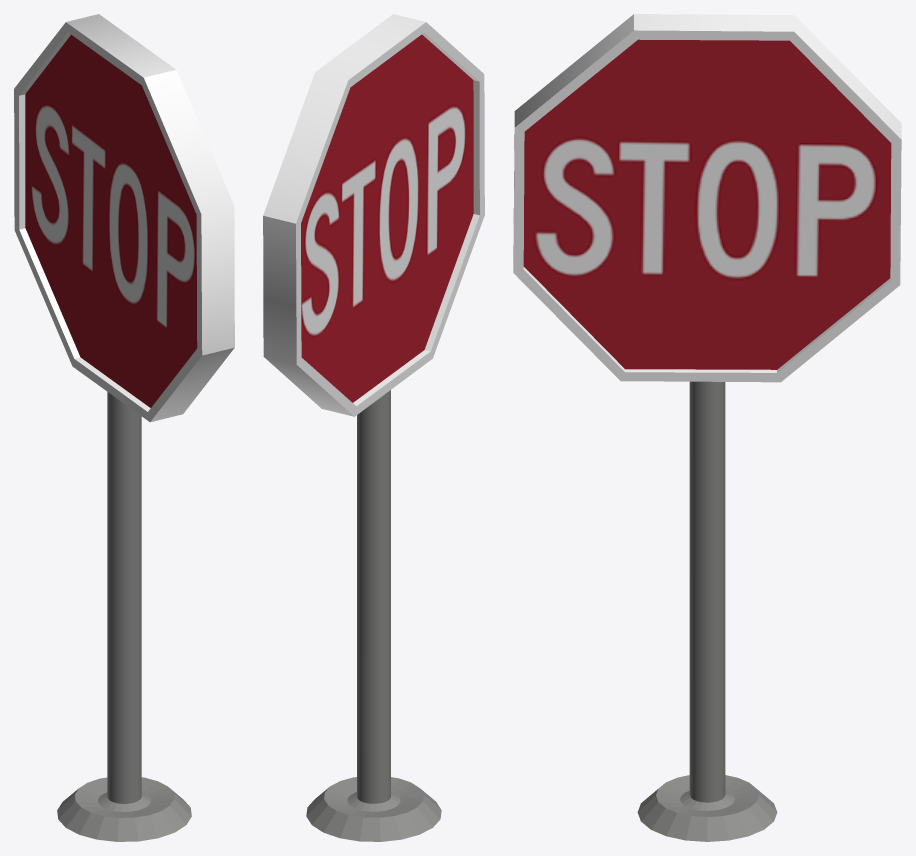
File: stopSign.fbx
3 renders of one model, left to right at view 1: azimuth 30°, elevation 25°; view 2: azimuth 150°, elevation 25°; view 3: azimuth 270°, elevation 25°, orthographic. The views are drawn at different scales.
Visible parts, largest first — view 1: pCylinder2; view 2: pCylinder2; view 3: pCylinder2.
Part boxes in pixels (x1=…): pCylinder2: x1=14, y1=14, x2=234, y2=841; pCylinder2: x1=263, y1=14, x2=484, y2=841; pCylinder2: x1=513, y1=14, x2=901, y2=841.
Size of the model in its own units: 0.0601 by 0.3745 by 0.1668.
1 material, 1 textured.
